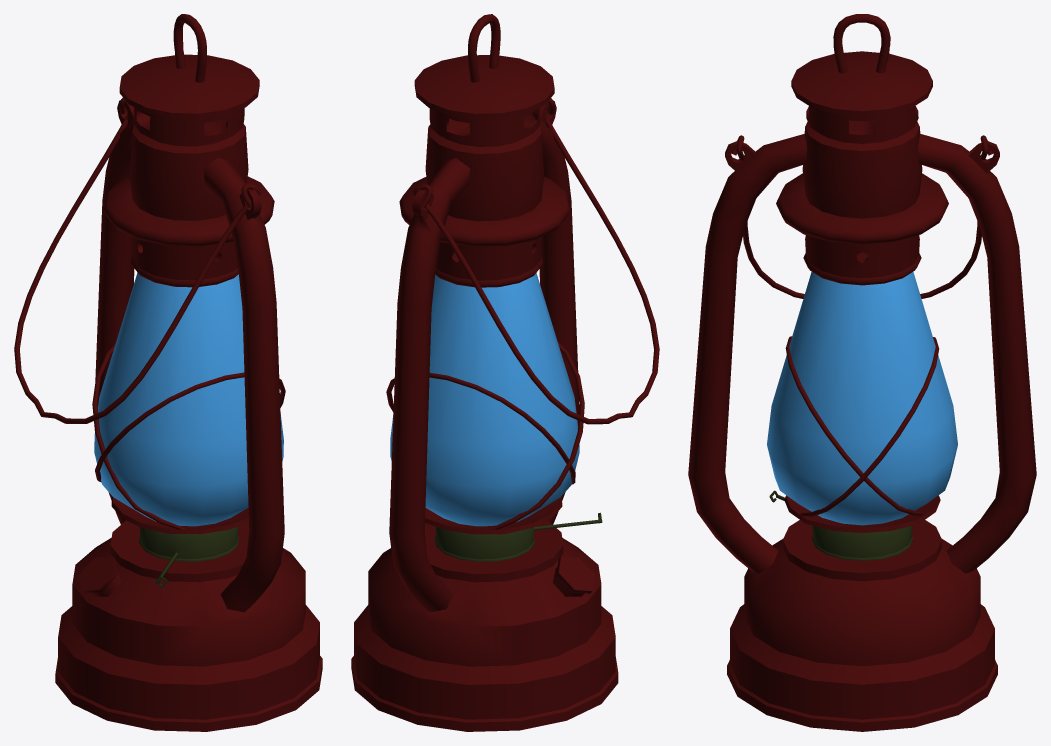
Rendered from Prop_Lamp_Fabi_M.fbx.
3 views of the same model, side by side, from view 1: azimuth 30°, elevation 25°; view 2: azimuth 150°, elevation 25°; view 3: azimuth 270°, elevation 25° (orthographic).
Visible parts, largest first — view 1: Lamp; view 2: Lamp; view 3: Lamp.
Boxes of the visible parts, bbox=[...] form: Lamp: bbox=[14, 14, 322, 731]; Lamp: bbox=[351, 14, 659, 731]; Lamp: bbox=[688, 14, 1036, 731].
Bounding box in the file's own units: 14.05 × 33.32 × 15.92.
